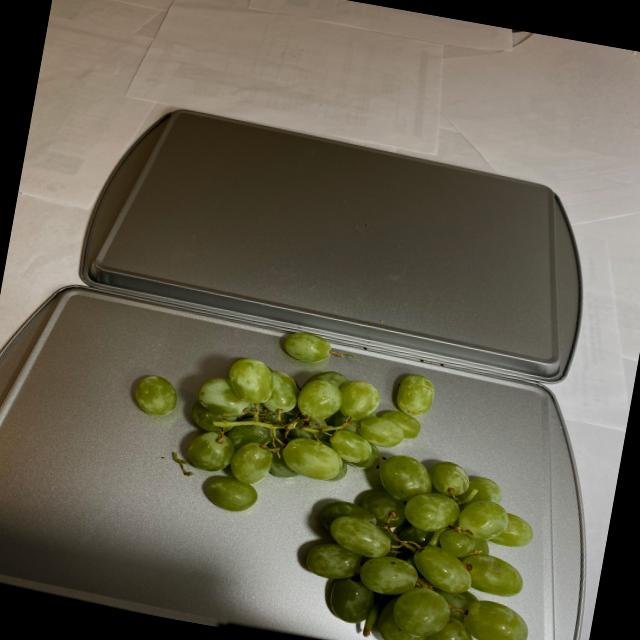grapes: (93, 303, 577, 640)
